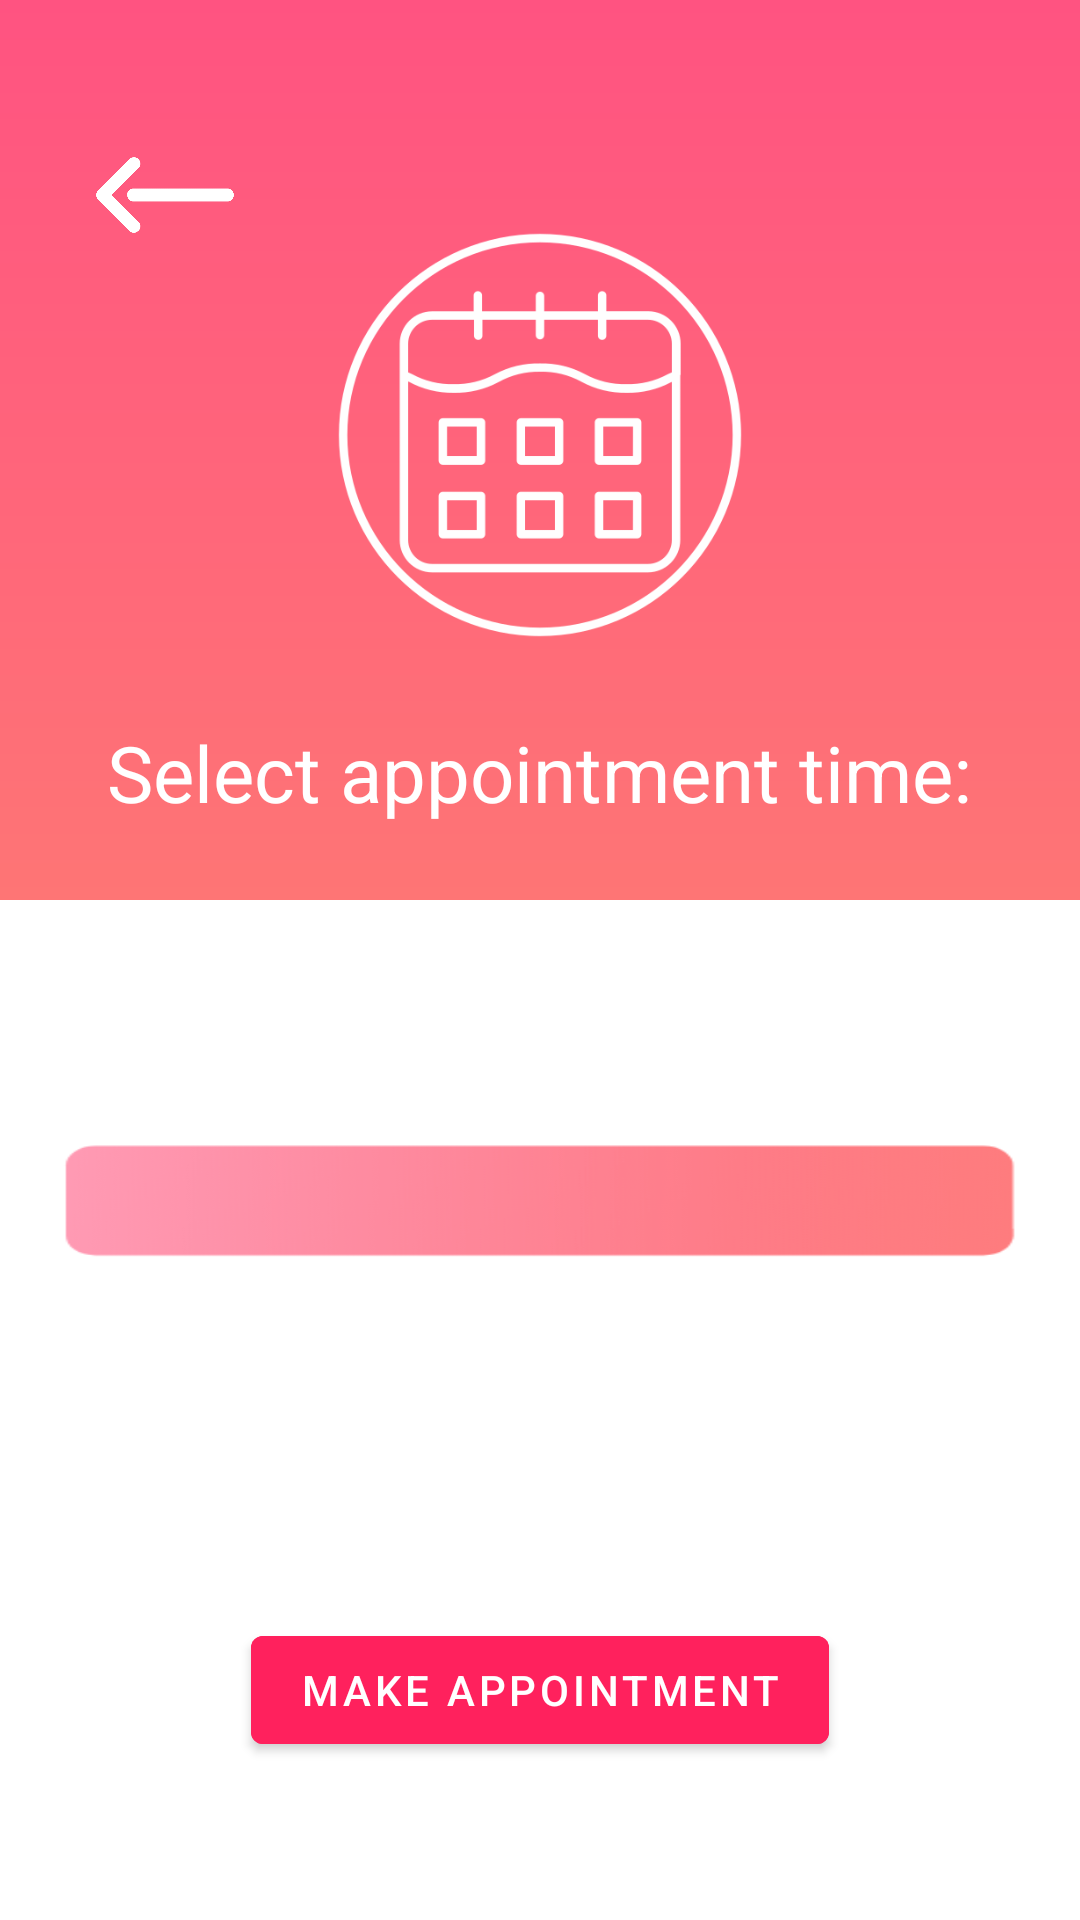

Screen size 1080x1920. Icon name, then its box in pixels as (x1, y1, x2, y2):
back: (96, 157, 234, 233)
